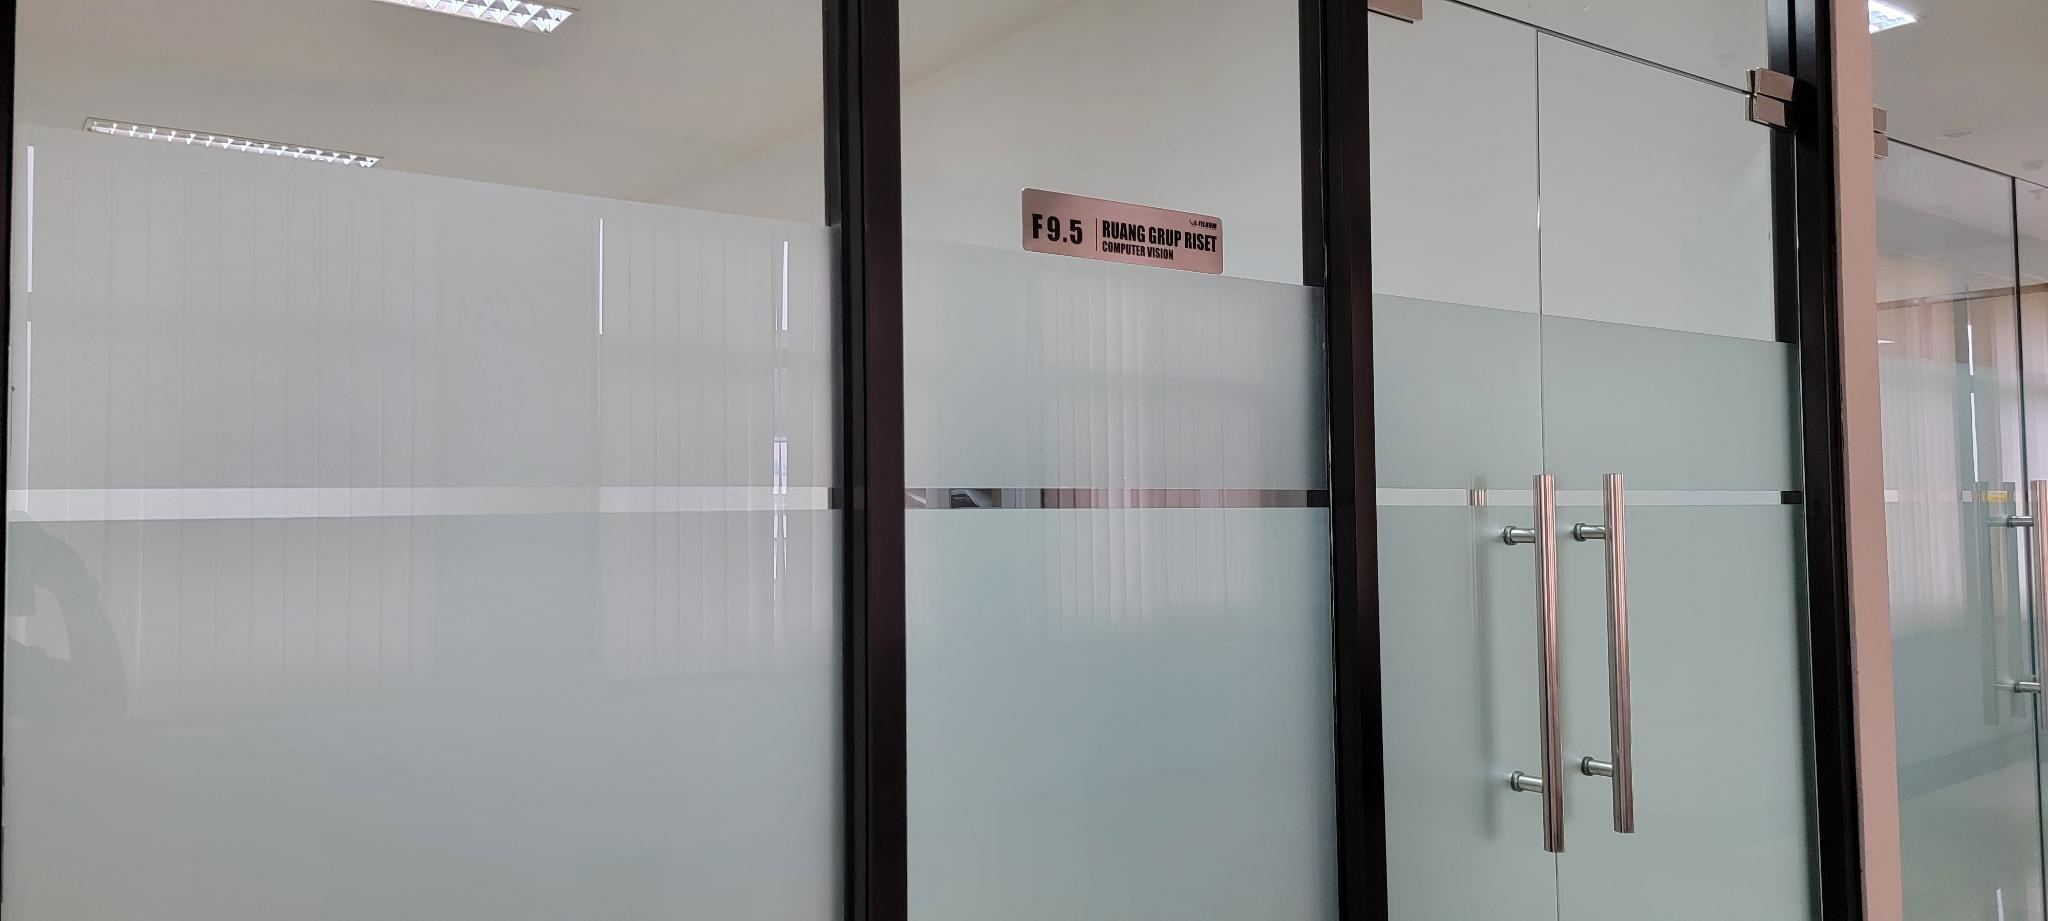plate: (1021, 182, 1226, 277)
